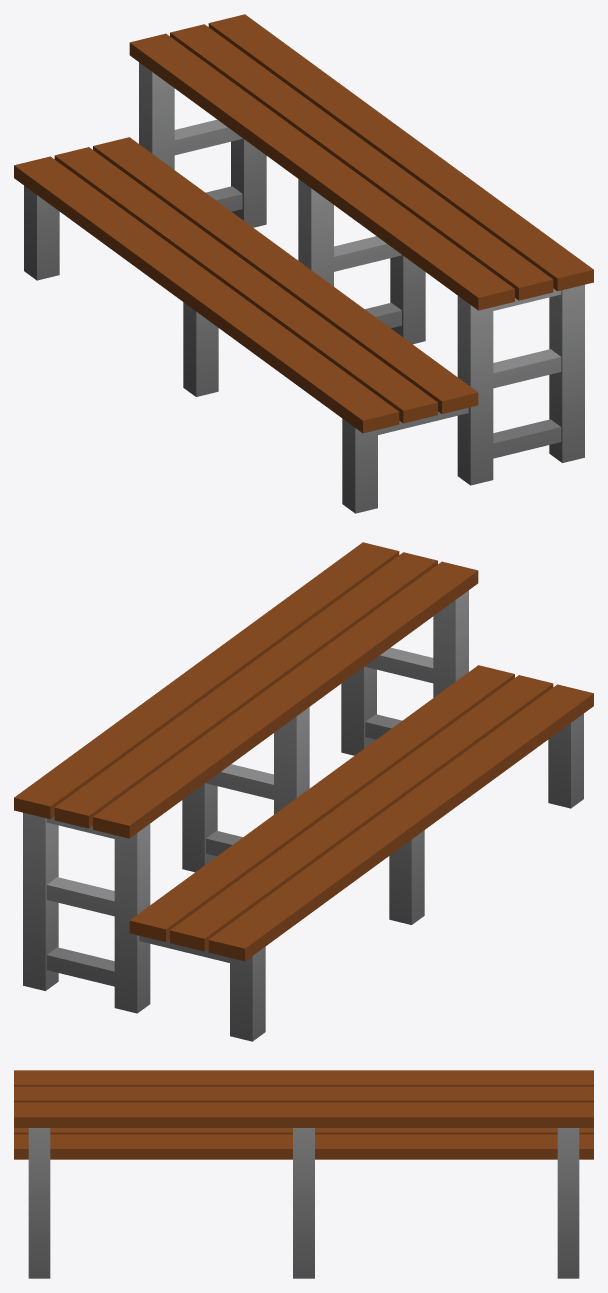
File: Bench_1_A_1.glb
3 renders of one model, top to bottom at view 1: azimuth 30°, elevation 25°; view 2: azimuth 150°, elevation 25°; view 3: azimuth 270°, elevation 25°, orthographic. The views are drawn at different scales.
Visible parts, largest first — view 1: Bench_1_A_1; view 2: Bench_1_A_1; view 3: Bench_1_A_1.
Boxes of the visible parts, left/top/right/bottom form: Bench_1_A_1: left=14, top=14, right=593, bottom=513; Bench_1_A_1: left=14, top=542, right=593, bottom=1041; Bench_1_A_1: left=14, top=1070, right=593, bottom=1278.
Size of the model in its own units: 0.8137 by 0.654 by 2.13.
2 materials, 2 textured.
